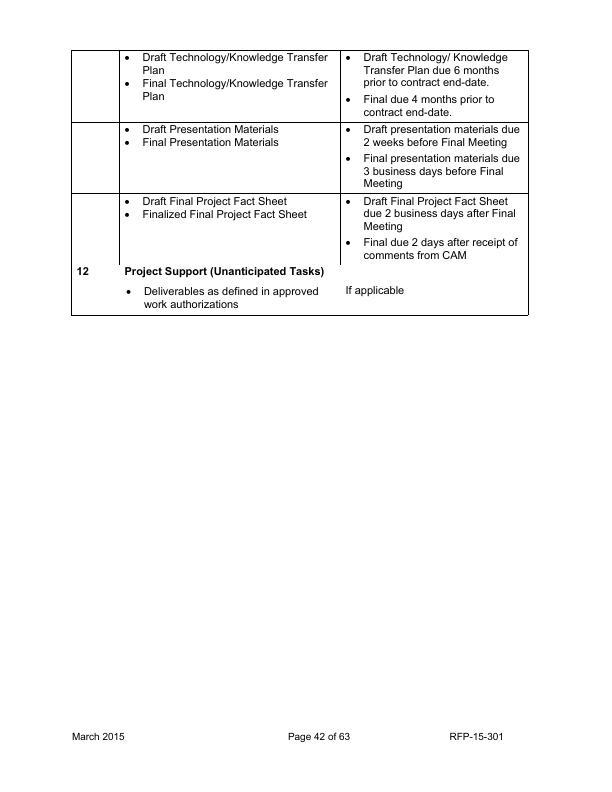table: (67, 47, 533, 322)
